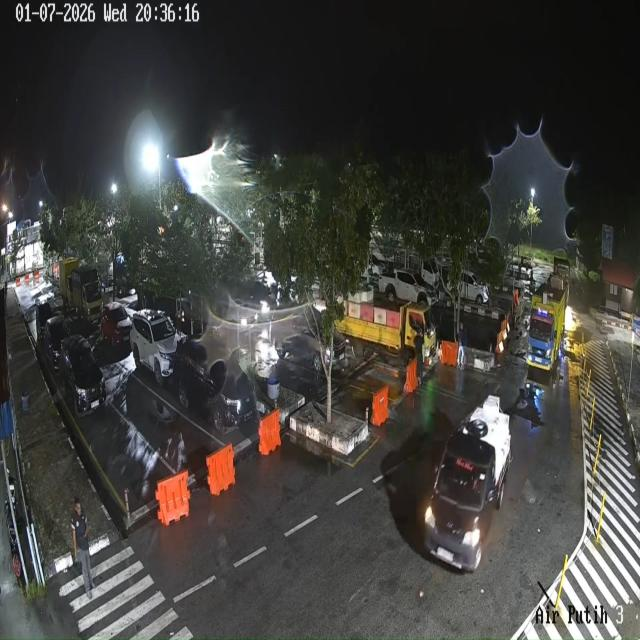Golongan IVA: (173, 339, 258, 433), (129, 309, 180, 386), (59, 335, 106, 417), (275, 321, 346, 374), (42, 316, 70, 370), (100, 301, 132, 347), (36, 302, 54, 341)
Golongan IVB: (422, 394, 512, 572), (378, 270, 437, 306)
Golongan VB: (335, 301, 437, 366), (527, 274, 568, 372), (59, 258, 102, 322)
